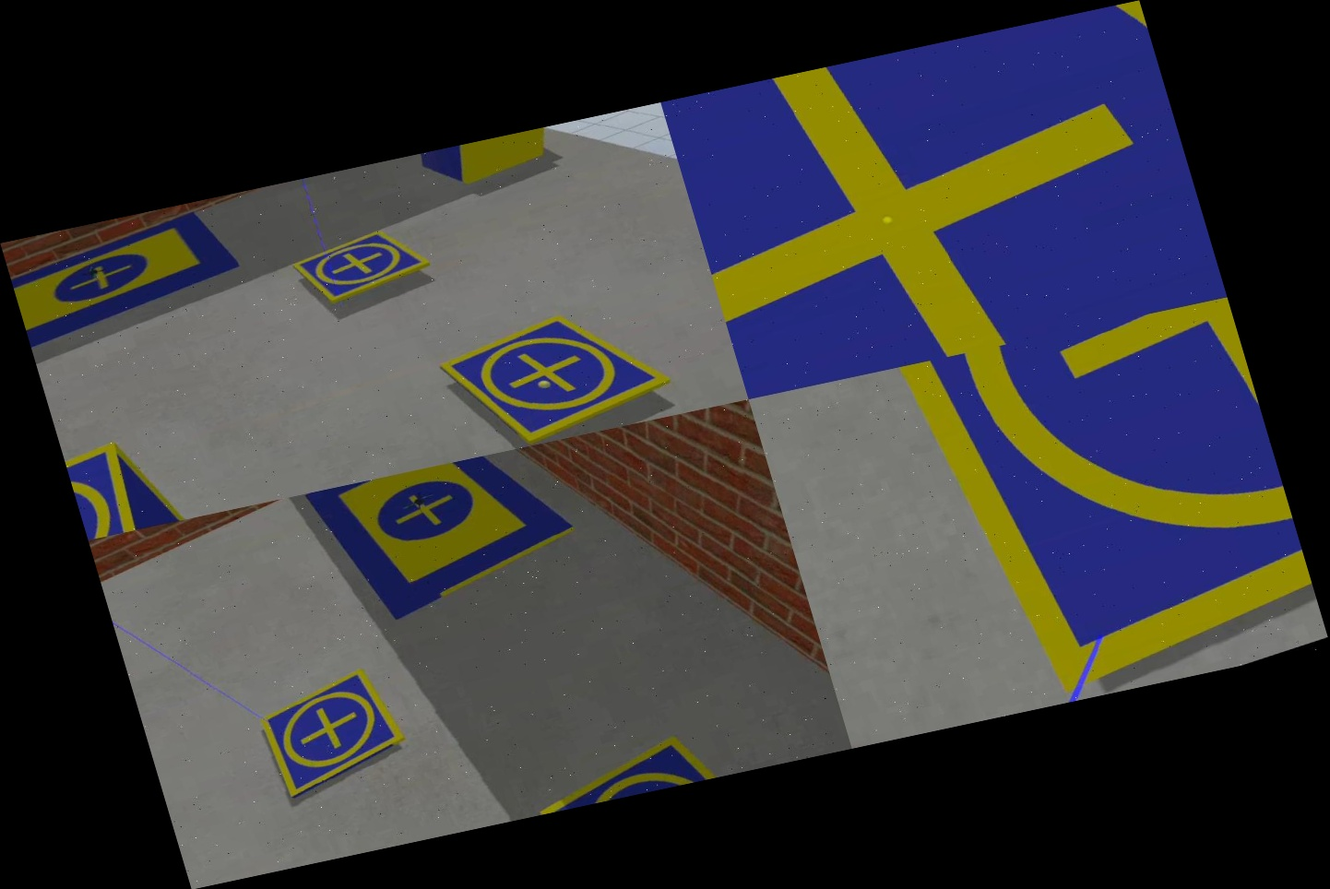large_base: (301, 442, 591, 636), (2, 200, 256, 354)
small_base: (660, 0, 1227, 399), (860, 297, 1330, 723), (423, 284, 686, 460), (520, 713, 774, 815), (237, 663, 417, 803), (286, 217, 439, 312)
